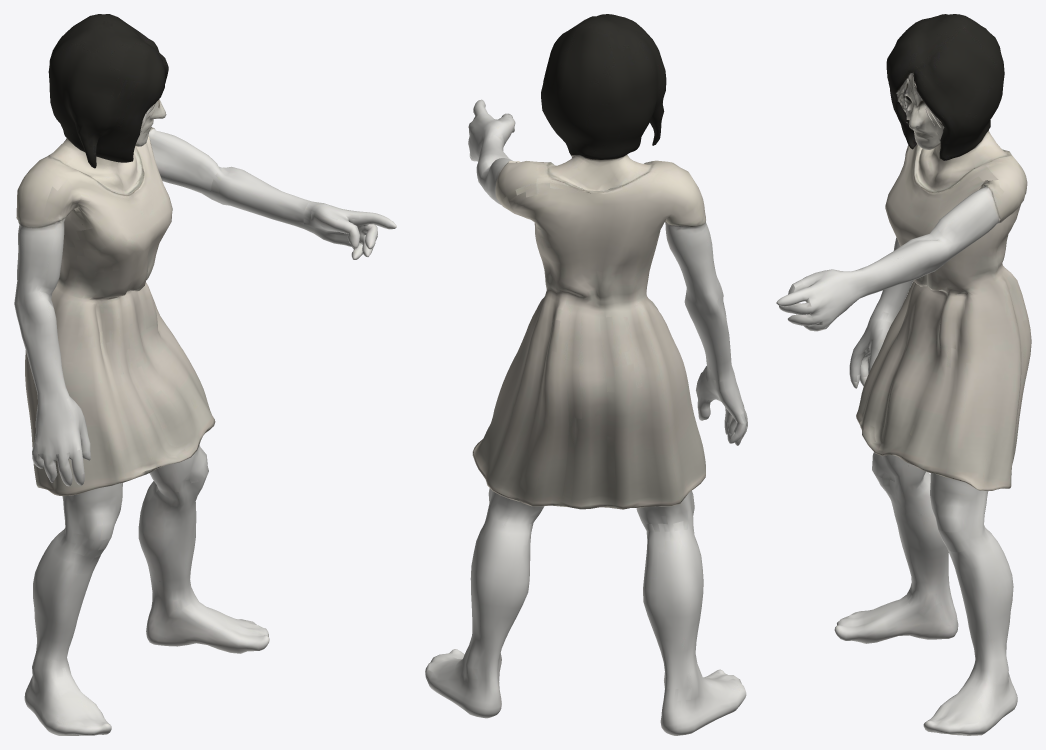
Rendered from pointing.glb.
The picture shows the model from 3 angles, left to right: view 1: azimuth 30°, elevation 25°; view 2: azimuth 150°, elevation 25°; view 3: azimuth 270°, elevation 25°; orthographic projection. The views are drawn at different scales.
Parts seen in each view (by area): view 1: tripo_node_3b2f1974-9a16-4b81-9459-b725fe5577d4.006; view 2: tripo_node_3b2f1974-9a16-4b81-9459-b725fe5577d4.006; view 3: tripo_node_3b2f1974-9a16-4b81-9459-b725fe5577d4.006.
Boxes of the visible parts, x1=… form: tripo_node_3b2f1974-9a16-4b81-9459-b725fe5577d4.006: x1=14, y1=14, x2=396, y2=735; tripo_node_3b2f1974-9a16-4b81-9459-b725fe5577d4.006: x1=425, y1=14, x2=747, y2=735; tripo_node_3b2f1974-9a16-4b81-9459-b725fe5577d4.006: x1=776, y1=14, x2=1031, y2=735.
Bounding box in the file's own units: 0.8057 × 1.67 × 0.5894.
1 material, 1 textured.
